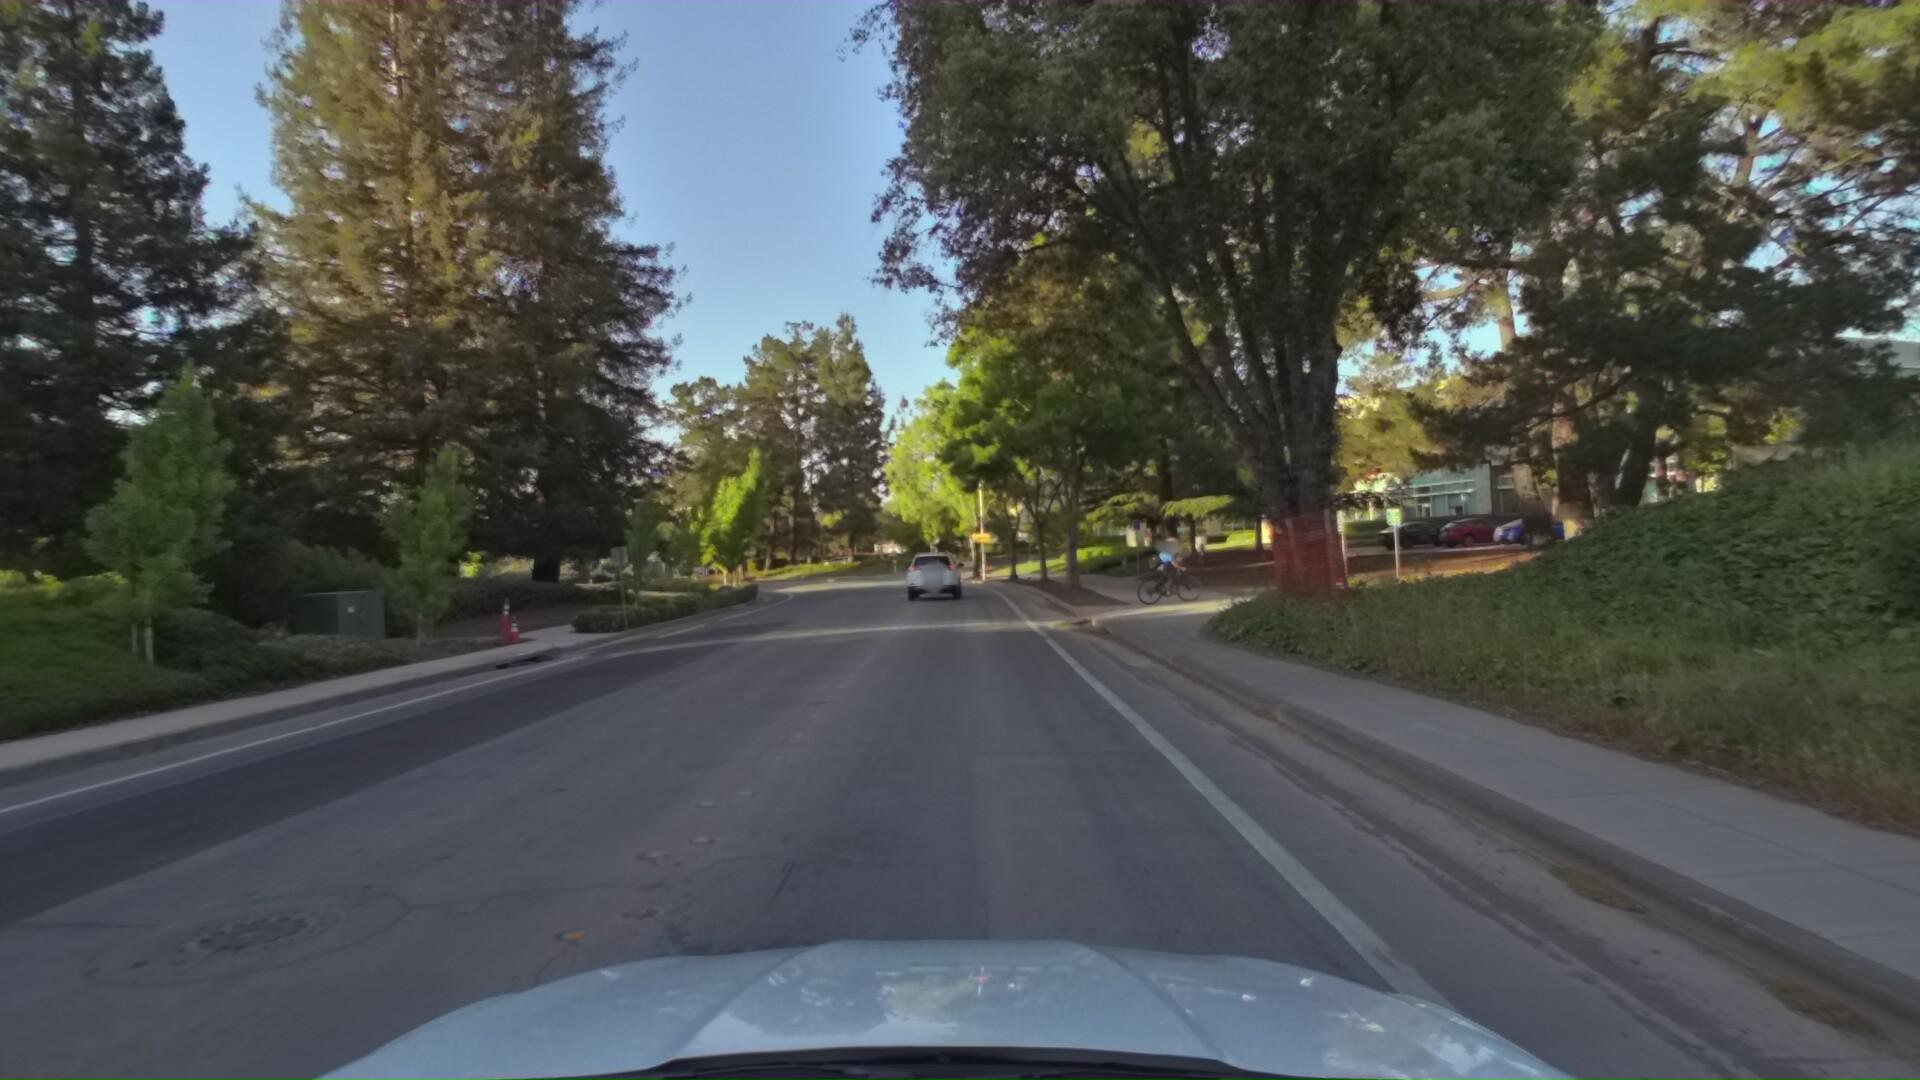bicycle: (1131, 530, 1226, 608)
car: (895, 546, 964, 603)
